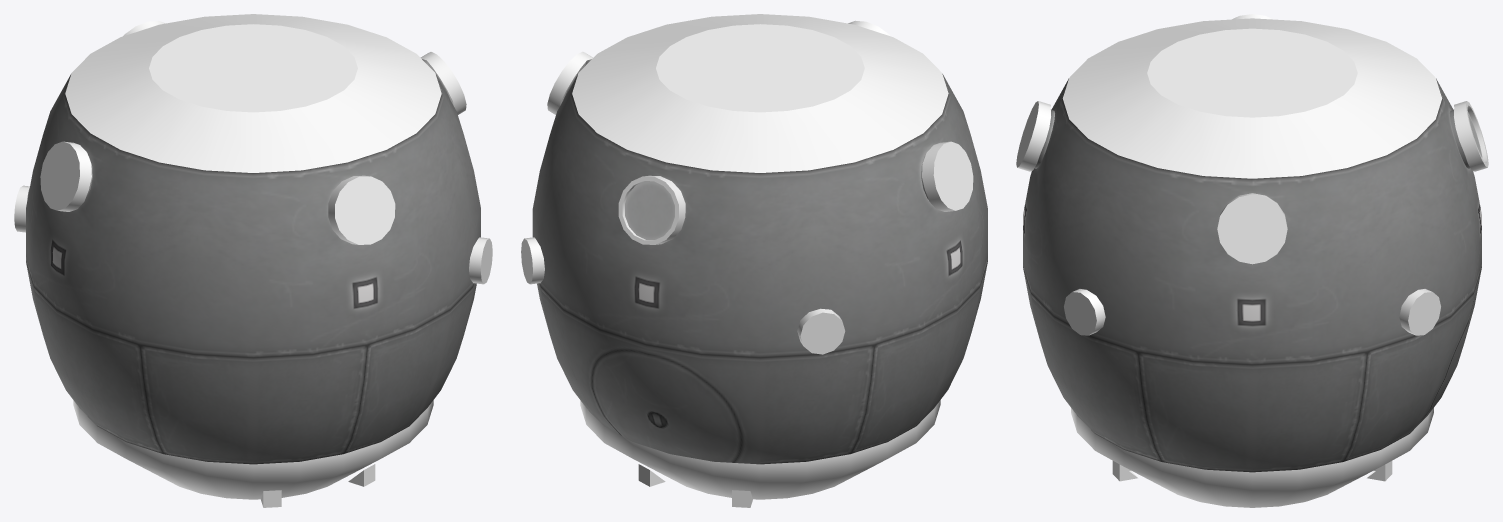
File: tantares_orbital_module_s1_2_interior.obj
3 views of the same model, side by side, from view 1: azimuth 30°, elevation 25°; view 2: azimuth 150°, elevation 25°; view 3: azimuth 270°, elevation 25° (orthographic).
Visible parts, largest first — view 1: mesh2, mask; view 2: mesh2, mask; view 3: mesh2, mask.
Boxes of the visible parts, x1,y1,x2,y2 form: mesh2: [26, 74, 480, 464]; mask: [14, 14, 492, 507]; mesh2: [532, 74, 987, 464]; mask: [521, 14, 973, 507]; mesh2: [1023, 78, 1481, 472]; mask: [1016, 14, 1488, 507].
Bounding box in the file's own units: 1.26 × 1.15 × 1.26.
Materials: 3 (2 with a texture image).
